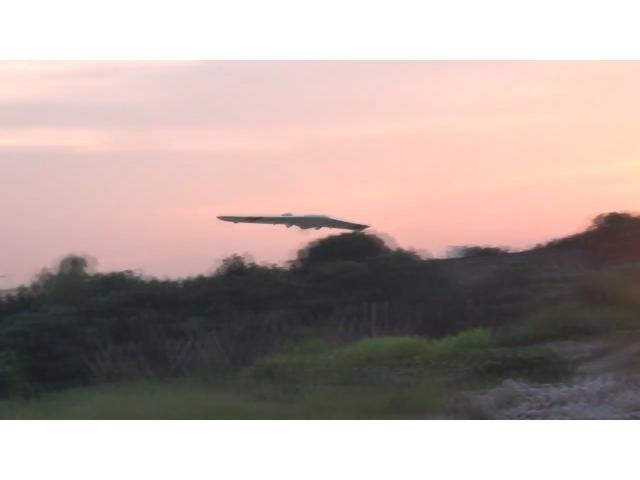Anti-Drone: (217, 212, 371, 232)
